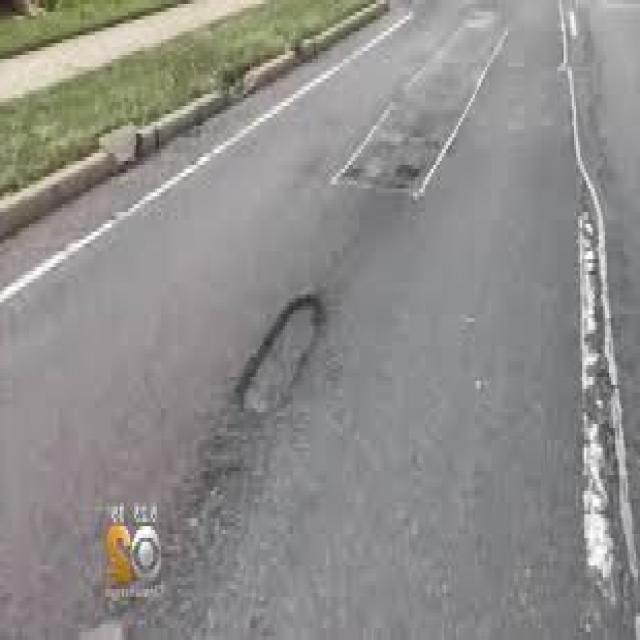Pothole: (232, 291, 325, 414)
